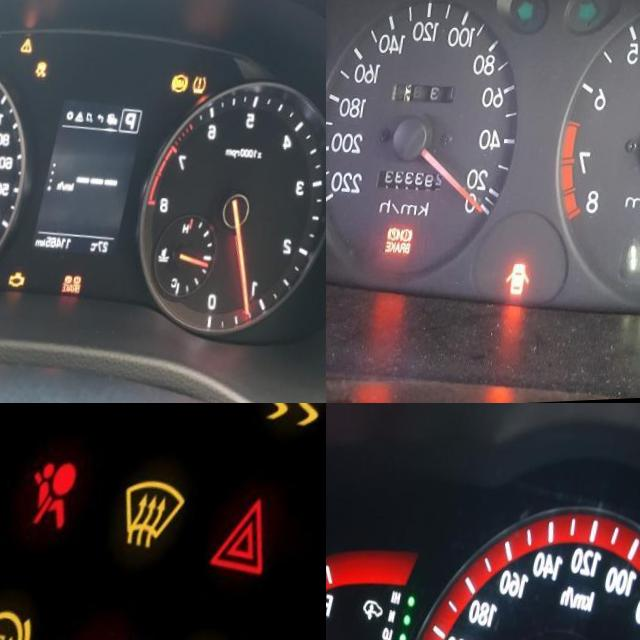Central Warning lamp: (26, 38, 40, 54)
Doors: (517, 264, 543, 299)
